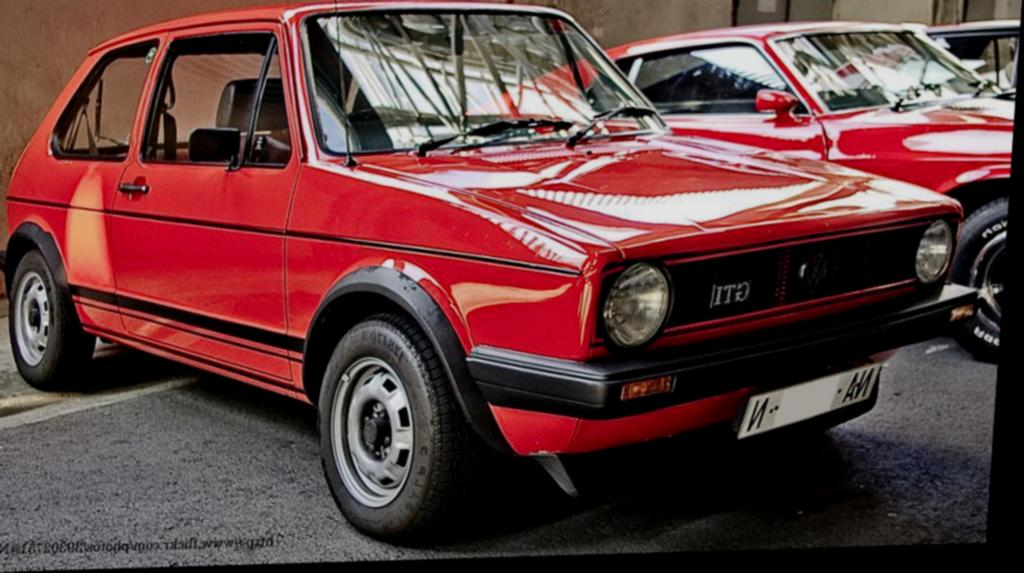License_Plate: (737, 362, 883, 442)
